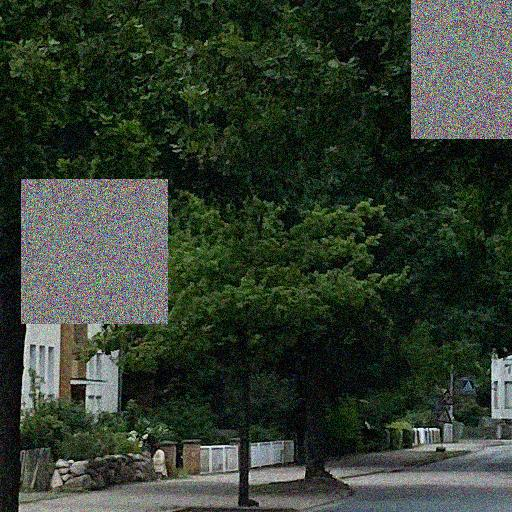tree: (1, 1, 318, 511), (193, 1, 512, 361), (66, 193, 410, 507), (260, 330, 405, 481)
